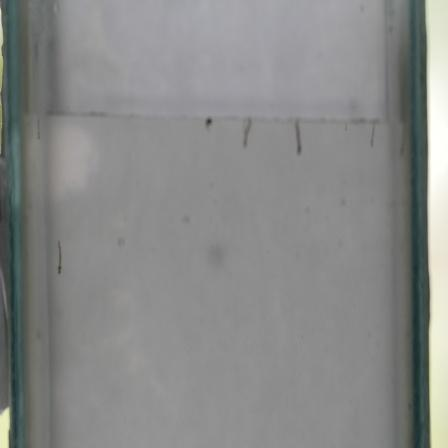Jentik-Nyamuk: (52, 237, 65, 282)
